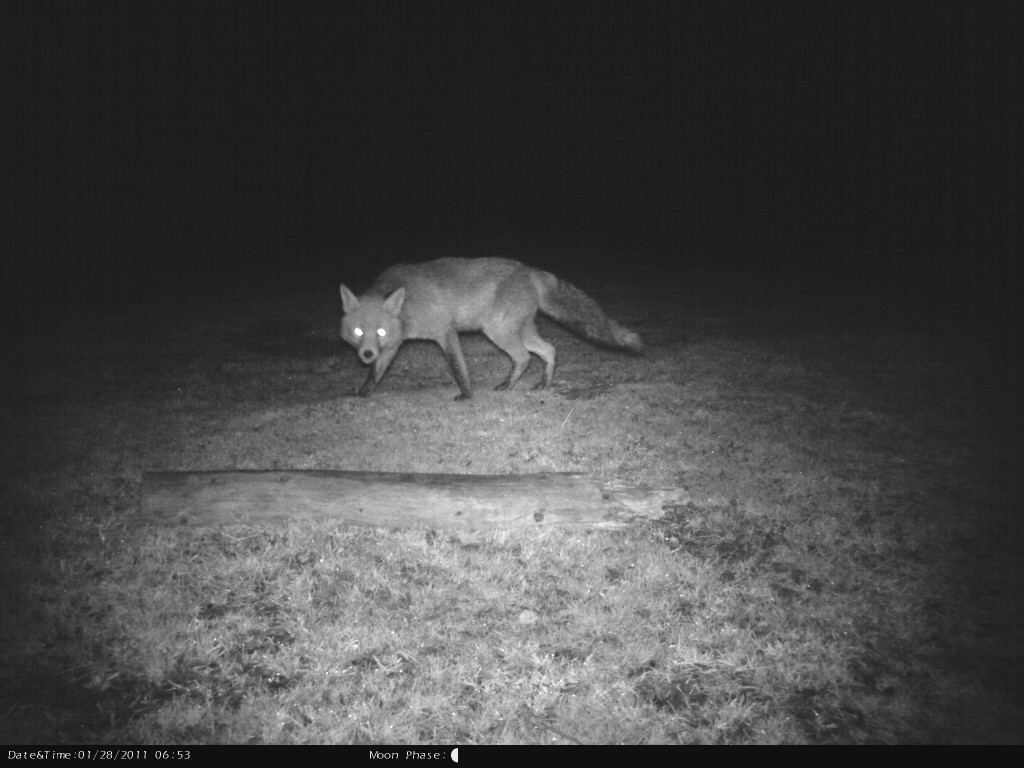fox: (307, 238, 651, 415)
